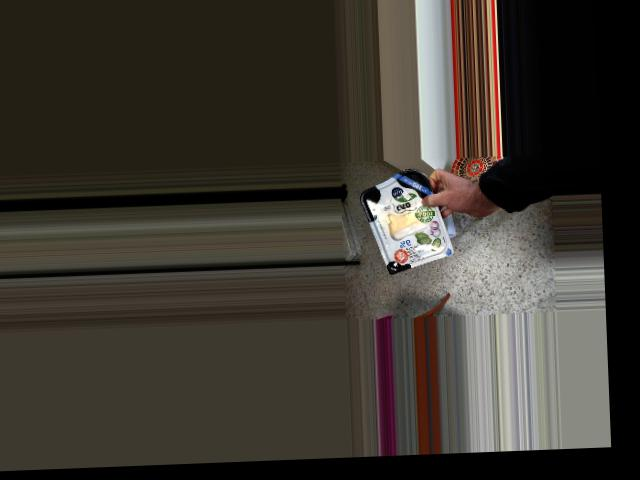cheese: (368, 175, 439, 268)
